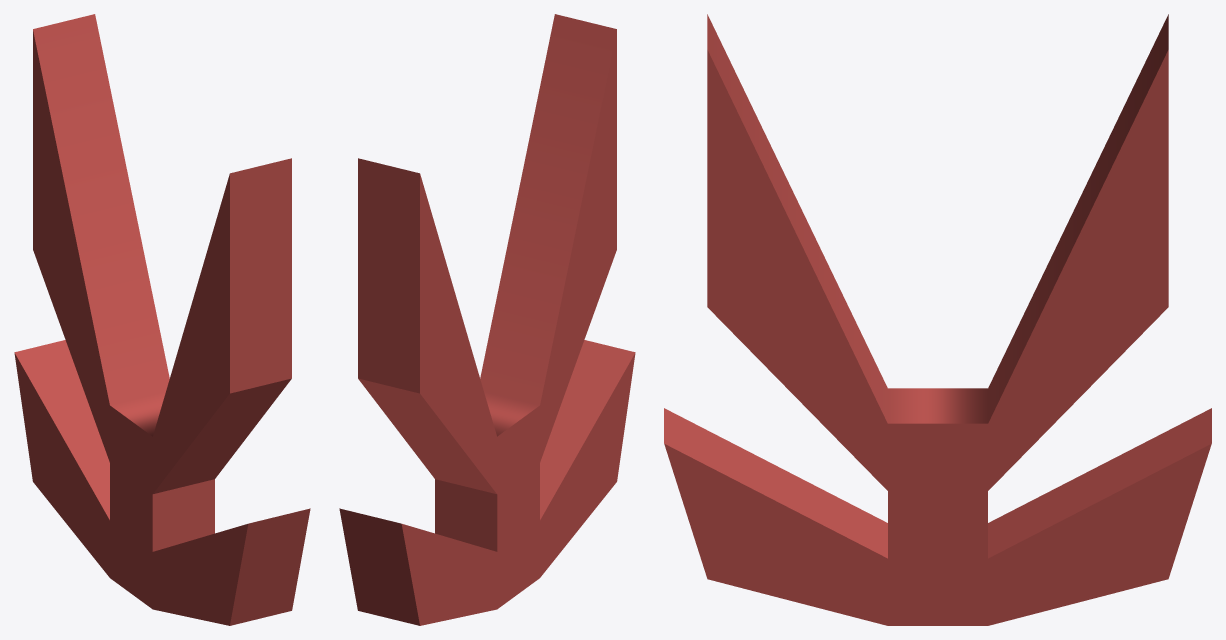
Rendered from Boost.fbx.
The picture shows the model from 3 angles, left to right: view 1: azimuth 30°, elevation 25°; view 2: azimuth 150°, elevation 25°; view 3: azimuth 270°, elevation 25°; orthographic projection. The views are drawn at different scales.
Visible parts, largest first — view 1: pCube1; view 2: pCube1; view 3: pCube1.
Part boxes in pixels (x1,y1,x2,y2): pCube1: [14, 14, 310, 625]; pCube1: [339, 14, 635, 625]; pCube1: [664, 14, 1211, 625].
Bounding box in the file's own units: 0.3768 × 2.85 × 2.45.
